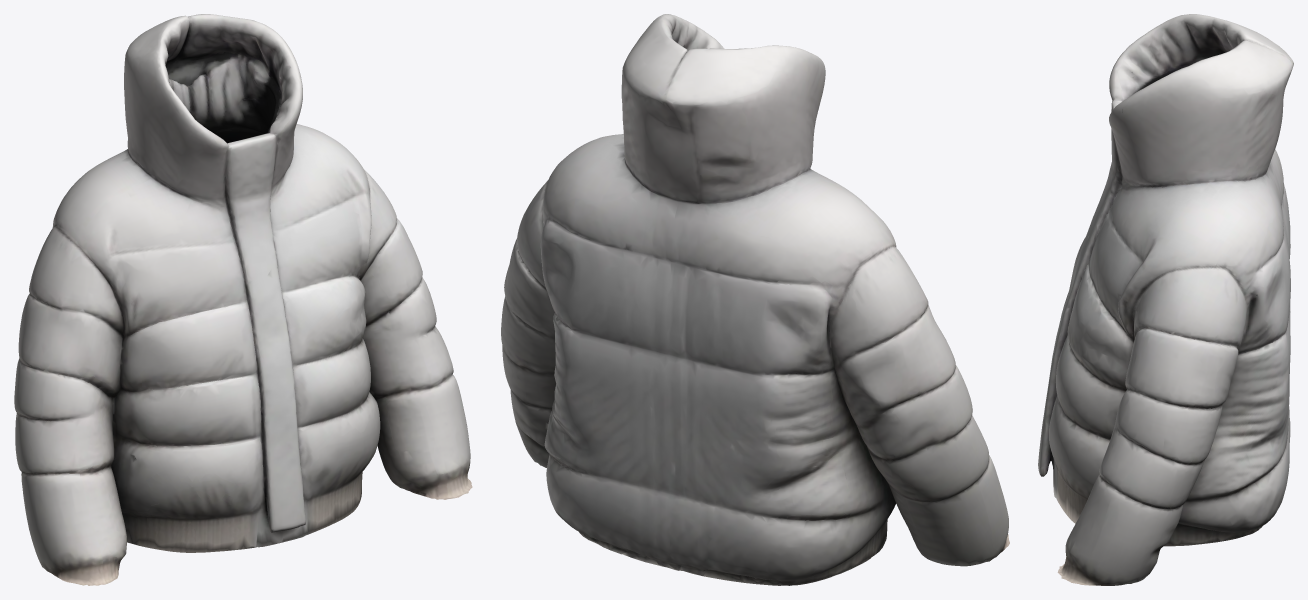
The model's file is puffer.glb.
The picture shows the model from 3 angles, left to right: view 1: azimuth 30°, elevation 25°; view 2: azimuth 150°, elevation 25°; view 3: azimuth 270°, elevation 25°; orthographic projection. The views are drawn at different scales.
Visible parts, largest first — view 1: geometry_0; view 2: geometry_0; view 3: geometry_0.
Part boxes in pixels (x1,y1,x2,y2): geometry_0: (14,14,472,585); geometry_0: (501,14,1009,585); geometry_0: (1038,14,1293,585).
Bounding box in the file's own units: 0.7896 × 0.8046 × 0.4128.
Materials: 1 (1 with a texture image).
